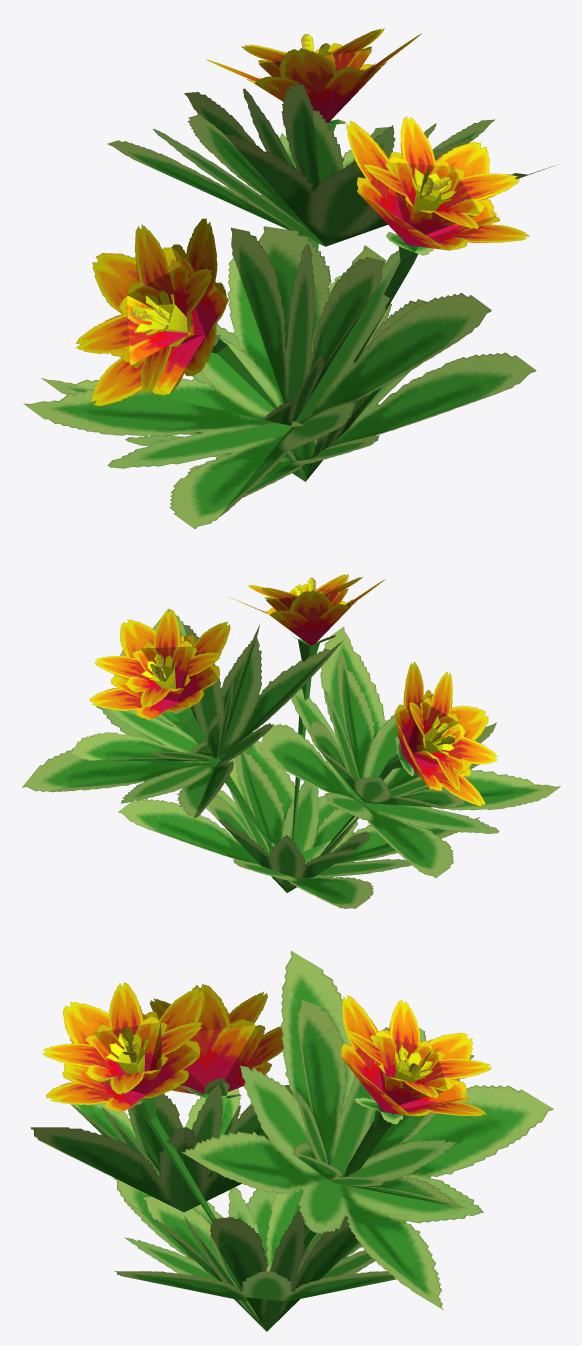
File: pflower_oasis.obj
3 renders of one model, top to bottom at view 1: azimuth 30°, elevation 25°; view 2: azimuth 150°, elevation 25°; view 3: azimuth 270°, elevation 25°, orthographic. The views are drawn at different scales.
Parts seen in each view (by area): view 1: ObessouVert.bin.001; view 2: ObessouVert.bin.001; view 3: ObessouVert.bin.001.
Part boxes in pixels (left/top/right/bottom): ObessouVert.bin.001: left=23, top=28, right=556, bottom=528; ObessouVert.bin.001: left=22, top=574, right=560, bottom=908; ObessouVert.bin.001: left=30, top=951, right=553, bottom=1331.
Size of the model in its own units: 107 by 80.11 by 108.
Materials: 1 (1 with a texture image).
